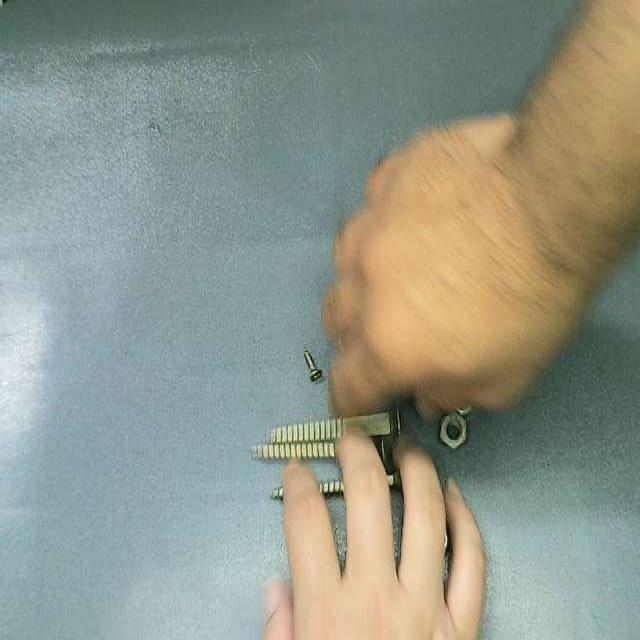Parafuso: (275, 414, 394, 443), (251, 443, 334, 459), (304, 350, 322, 382), (318, 479, 343, 495)
Porca: (440, 411, 467, 449)
